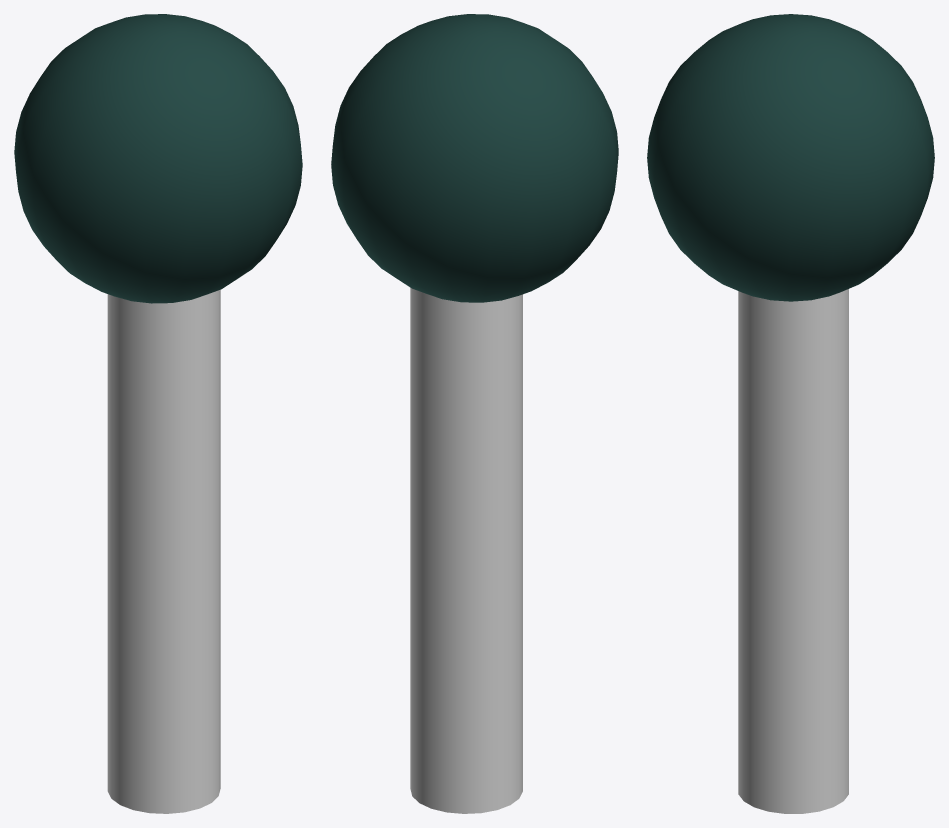
The model's file is VolumeSlider_Stick.fbx.
The picture shows the model from 3 angles, left to right: view 1: azimuth 30°, elevation 25°; view 2: azimuth 150°, elevation 25°; view 3: azimuth 270°, elevation 25°; orthographic projection.
Parts seen in each view (by area): view 1: Volume_Slider_Ball, Volume_Slider_Stick; view 2: Volume_Slider_Ball, Volume_Slider_Stick; view 3: Volume_Slider_Ball, Volume_Slider_Stick.
Boxes of the visible parts, left/top/right/bottom form: Volume_Slider_Ball: left=14, top=14, right=302, bottom=303; Volume_Slider_Stick: left=107, top=289, right=220, bottom=813; Volume_Slider_Ball: left=331, top=14, right=618, bottom=302; Volume_Slider_Stick: left=410, top=288, right=522, bottom=813; Volume_Slider_Ball: left=647, top=14, right=934, bottom=301; Volume_Slider_Stick: left=738, top=289, right=848, bottom=813.
Size of the model in its own units: 2 by 5.83 by 2.
